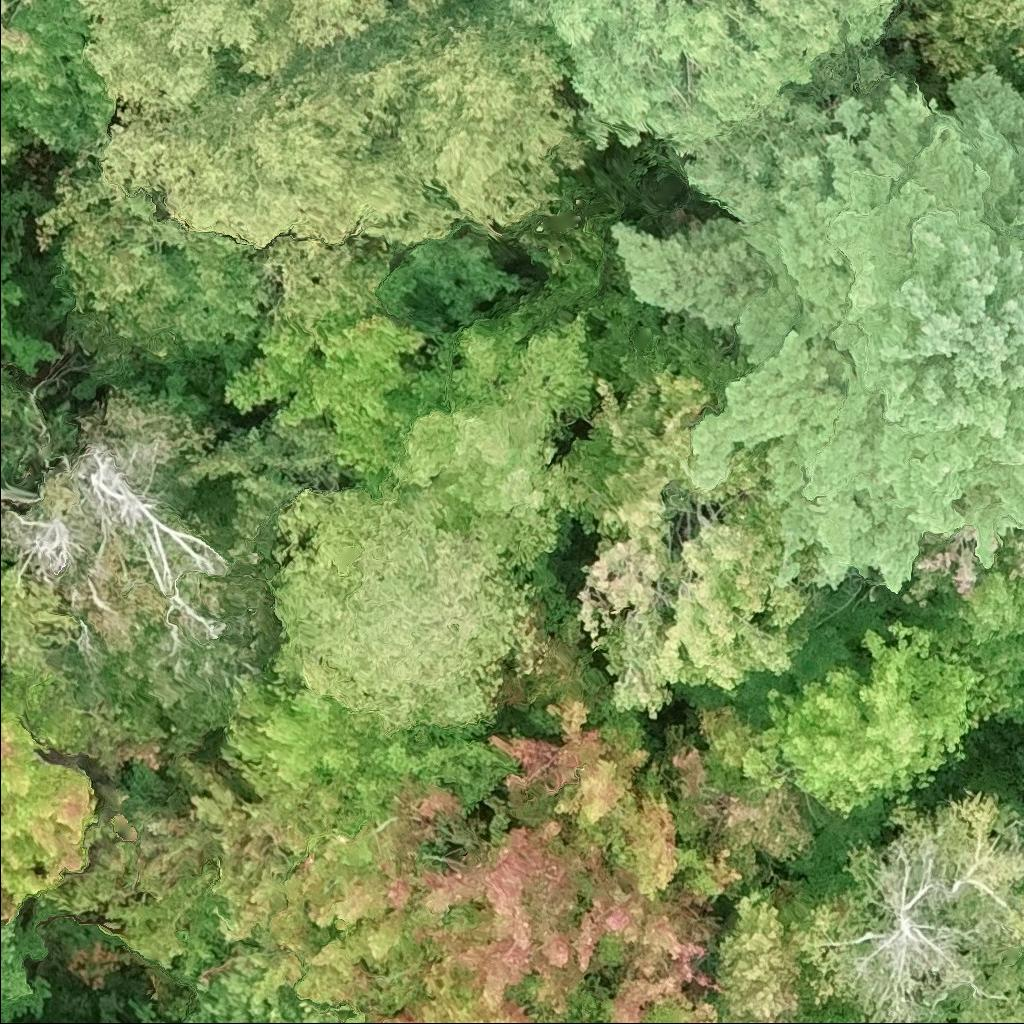crown: (605, 38, 1023, 595), (265, 578, 749, 1023), (560, 371, 823, 725), (95, 49, 469, 253), (266, 472, 537, 740), (480, 0, 906, 160), (337, 0, 593, 235), (739, 620, 1023, 822), (792, 783, 1023, 1023), (77, 0, 455, 118), (220, 676, 518, 818), (218, 311, 430, 487), (671, 704, 827, 882), (0, 678, 99, 936), (0, 0, 116, 168), (901, 554, 1023, 697), (717, 875, 817, 1023), (893, 0, 1023, 88), (121, 987, 351, 1023), (901, 527, 978, 609), (0, 0, 69, 88), (0, 919, 55, 1023), (0, 358, 25, 472), (1011, 742, 1023, 799), (994, 709, 1023, 727), (0, 557, 8, 605), (99, 1017, 116, 1023), (0, 194, 6, 207), (0, 616, 1, 626)
